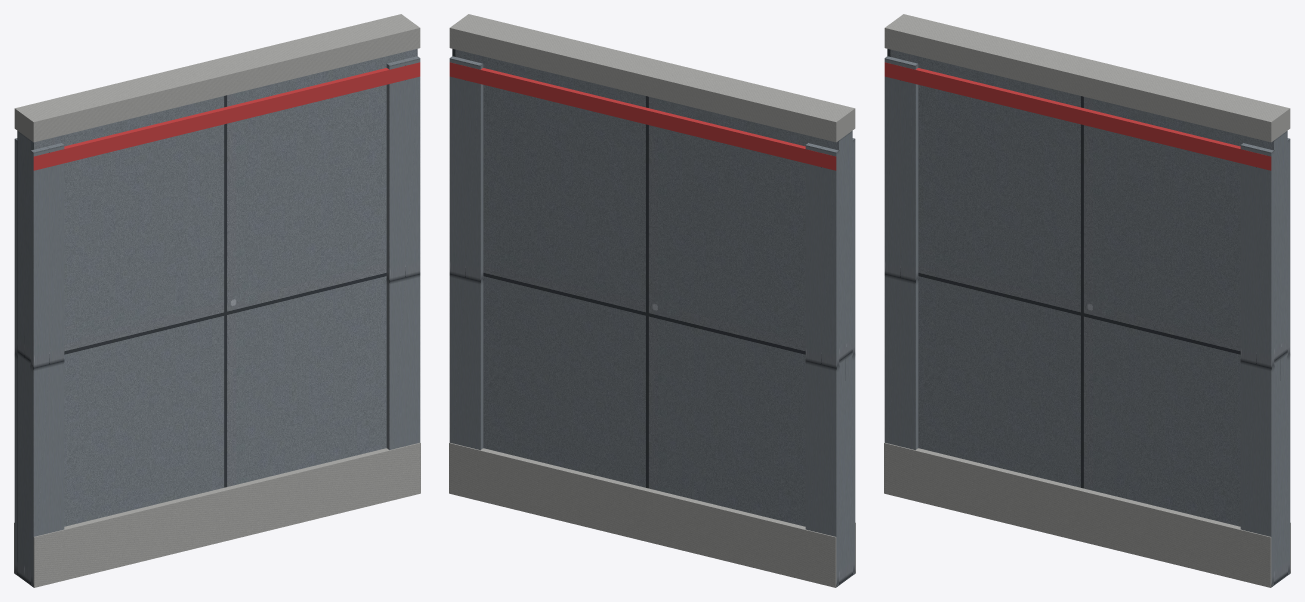
File: fire-and-emergency-services-station-wall-module-504bcd0a__29886.glb
The picture shows the model from 3 angles, left to right: view 1: azimuth 30°, elevation 25°; view 2: azimuth 150°, elevation 25°; view 3: azimuth 330°, elevation 25°; orthographic projection.
Visible parts, largest first — view 1: station-wall-module; view 2: station-wall-module; view 3: station-wall-module.
Part boxes in pixels (<box>): station-wall-module: <box>14,14,420,587</box>; station-wall-module: <box>449,14,855,587</box>; station-wall-module: <box>884,14,1290,587</box>.
Bounding box in the file's own units: 4 × 4.6 × 0.3599.
Materials: 3 (2 with a texture image).
